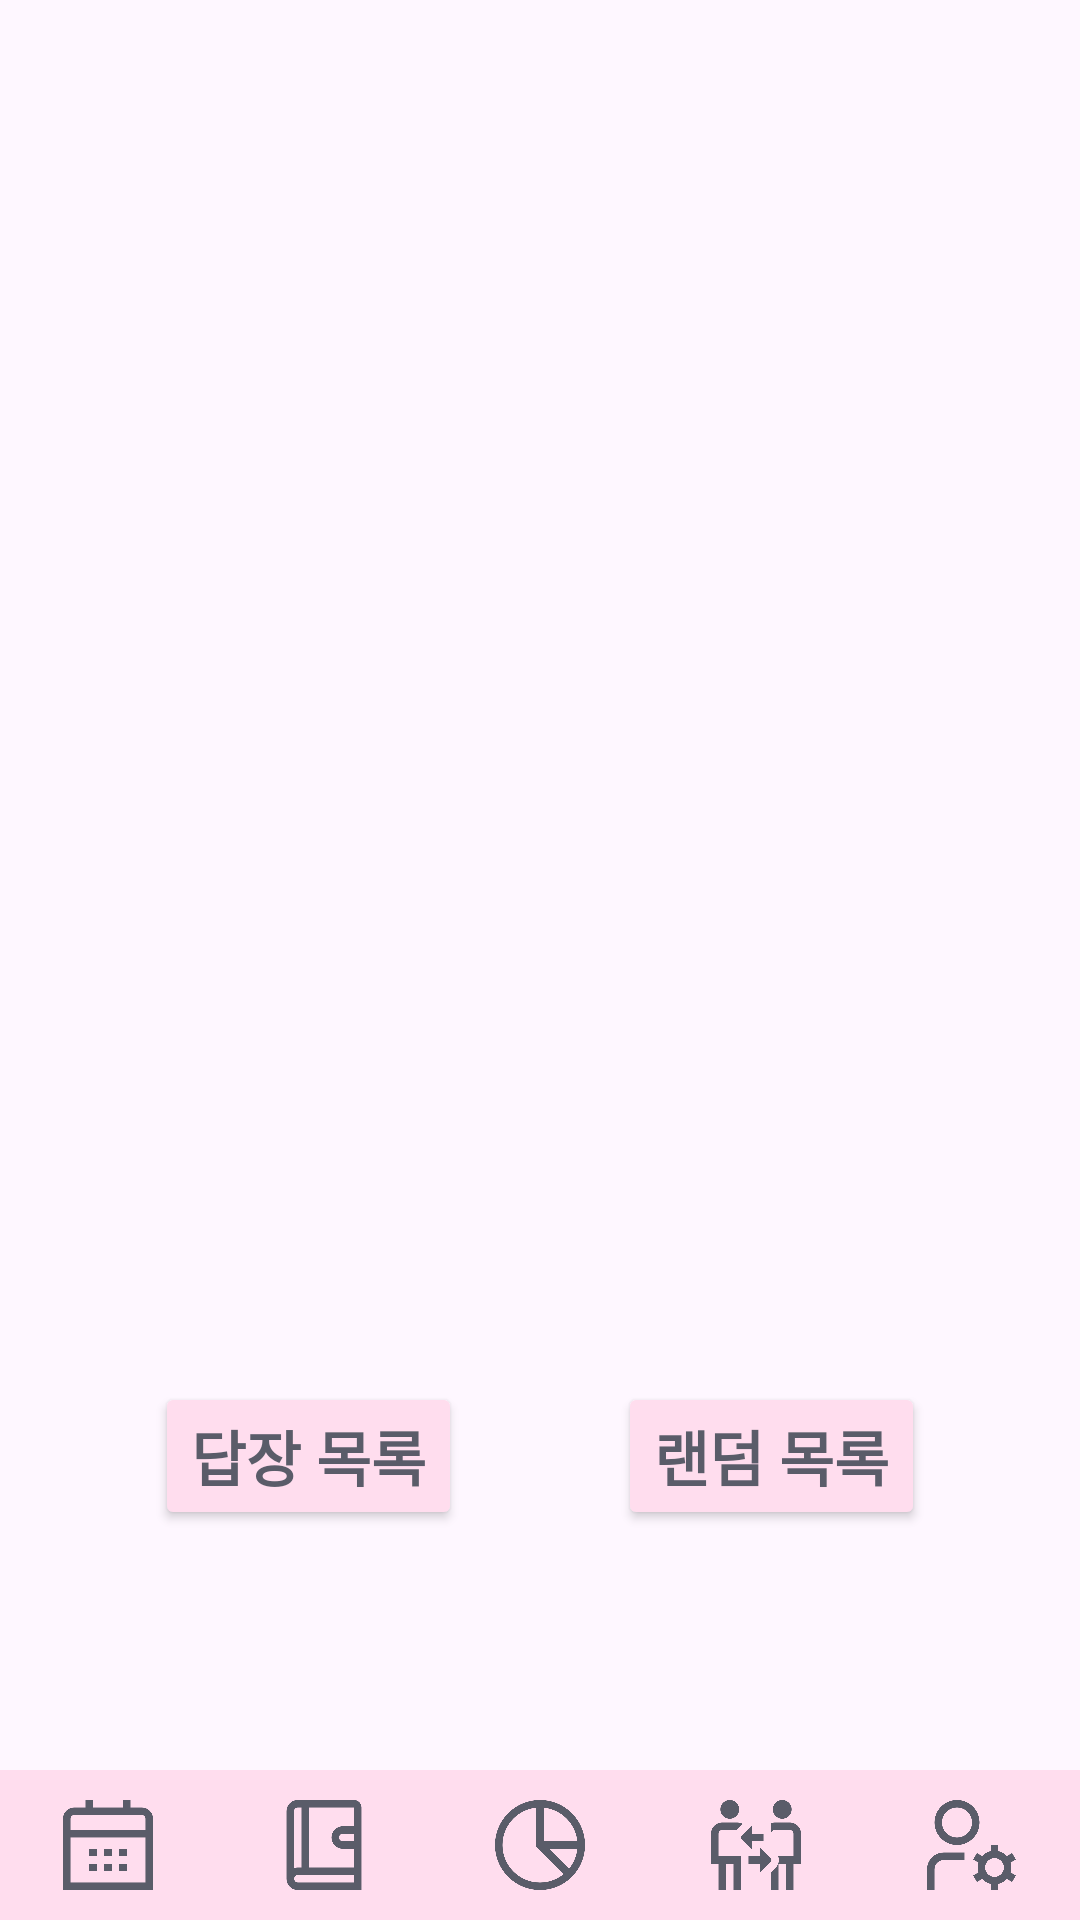

Screen size 1080 × 1920. Icon name, then its box in pixels as (x1, y1, x2, y2):
admin: (927, 1800, 1016, 1890)
chart: (495, 1800, 585, 1890)
diary: (286, 1800, 362, 1890)
iconcalendar: (63, 1800, 153, 1890)
social: (711, 1800, 801, 1890)
